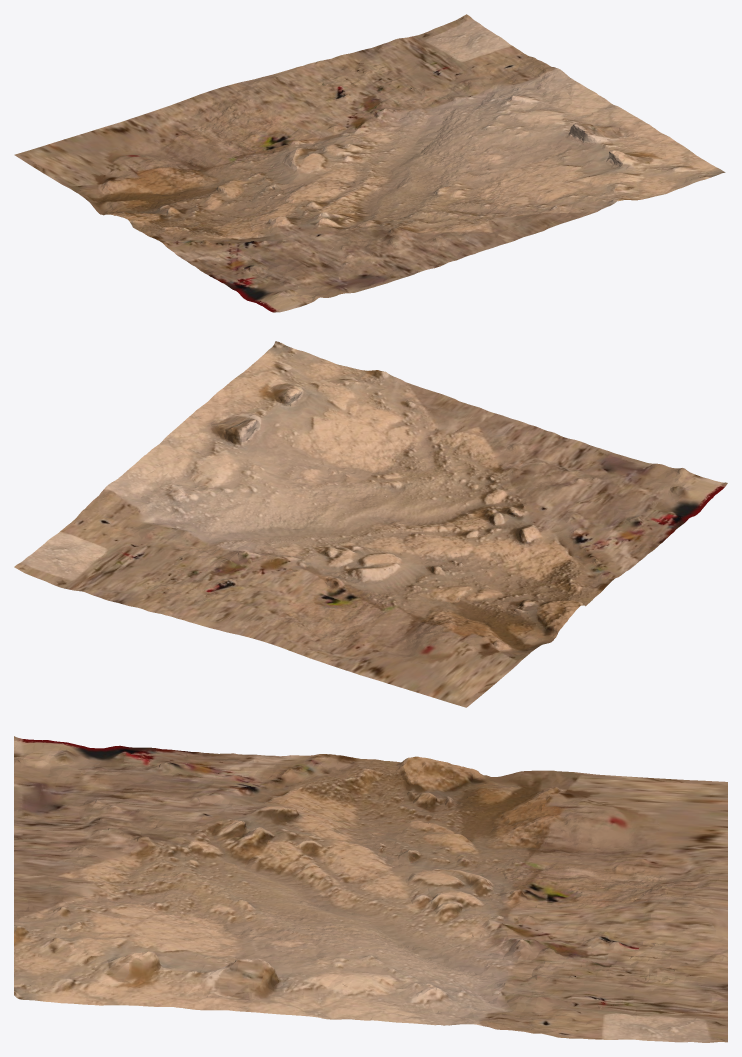
3 renders of one model, top to bottom at view 1: azimuth 30°, elevation 25°; view 2: azimuth 150°, elevation 25°; view 3: azimuth 270°, elevation 25°, orthographic. The views are drawn at different scales.
Bounding box in the file's own units: 4.18 × 0.5737 × 4.18.
2 materials, 2 textured.
